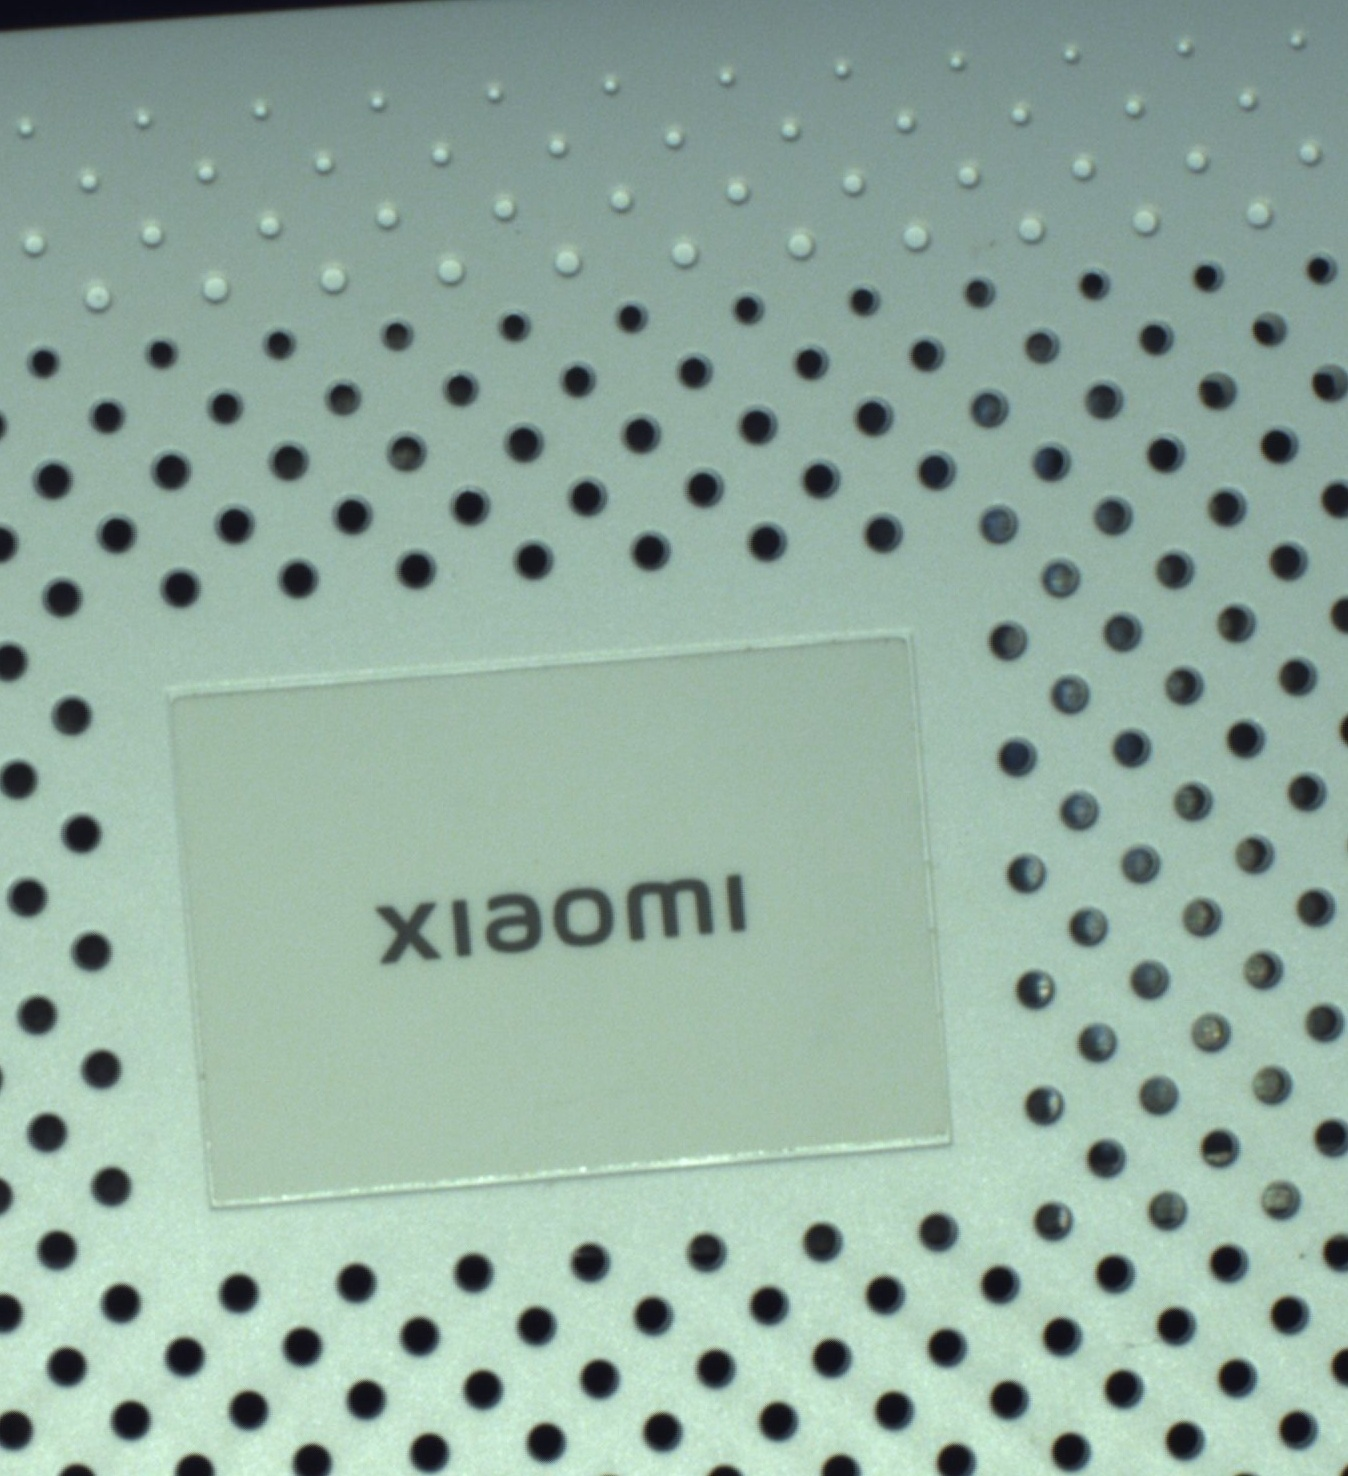MAB_OldUnicom: (360, 876, 761, 967)
